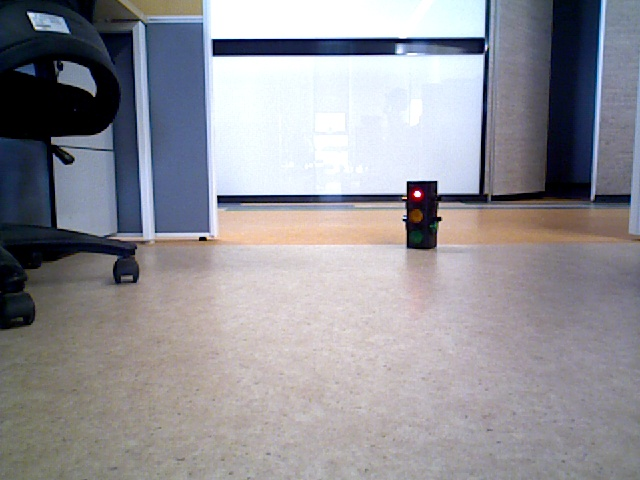red: (409, 184, 434, 246)
